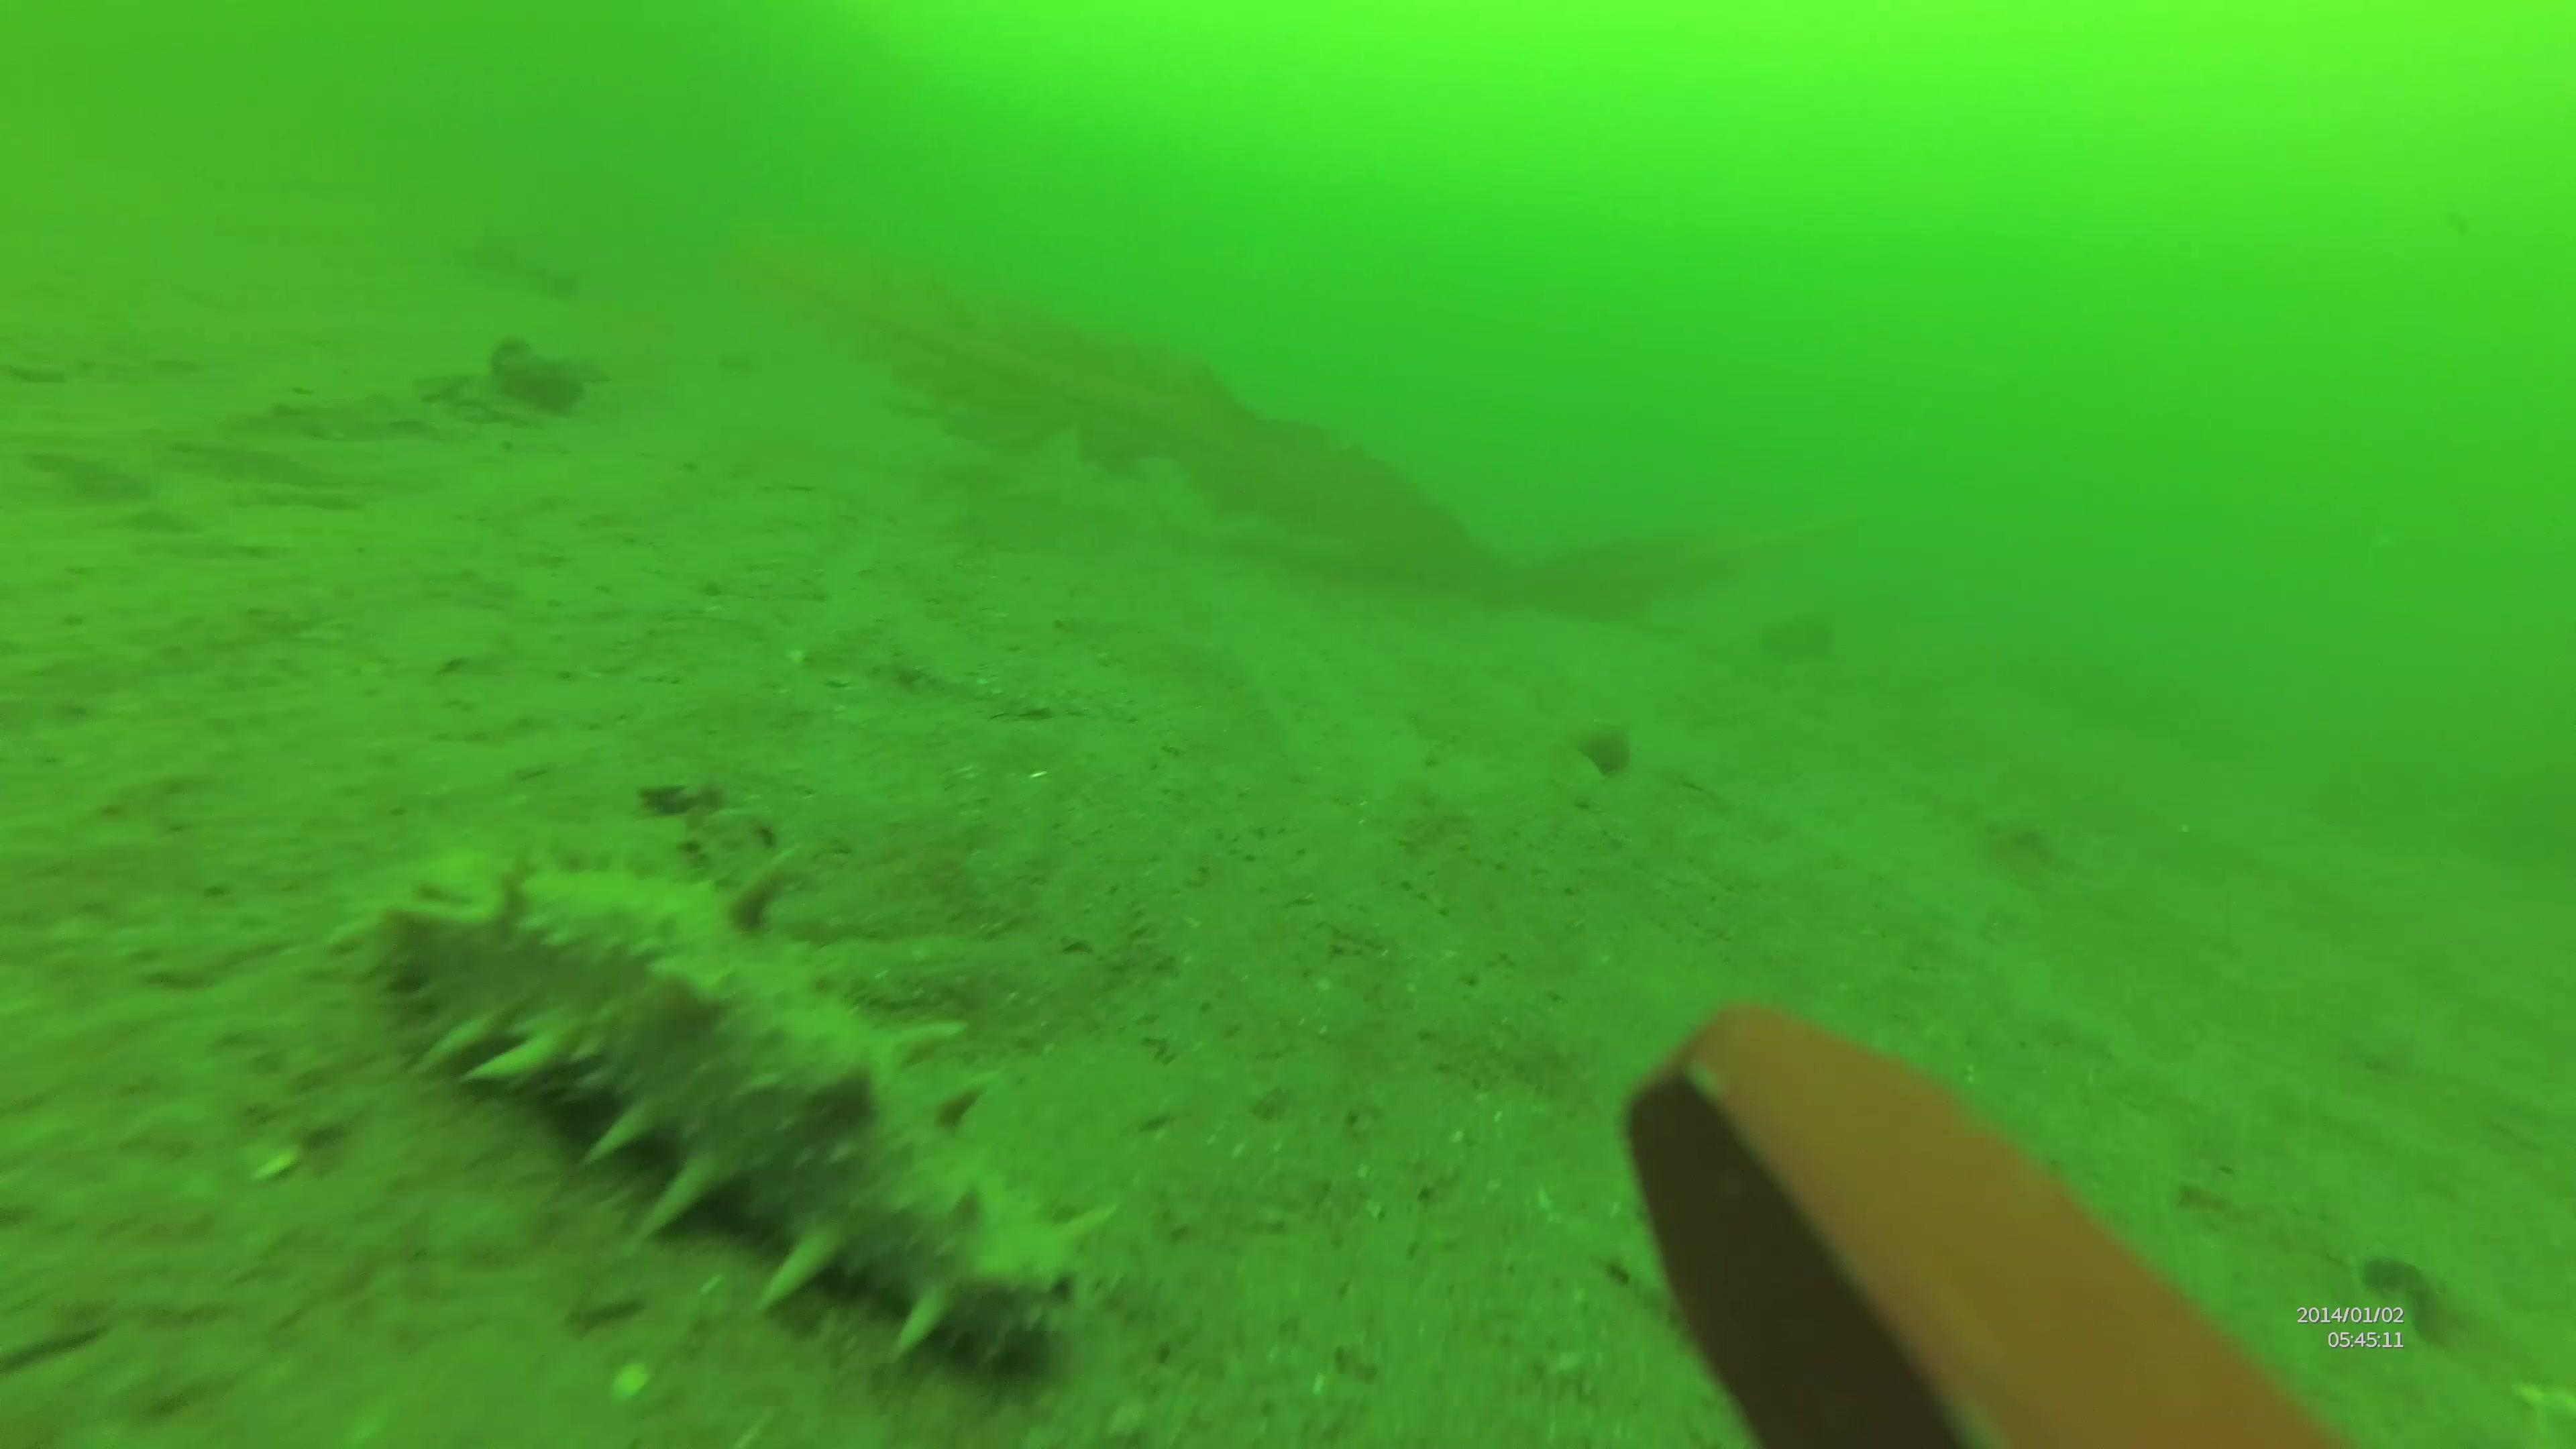echinus: (488, 333, 586, 412)
holothurian: (377, 840, 1090, 1378)
